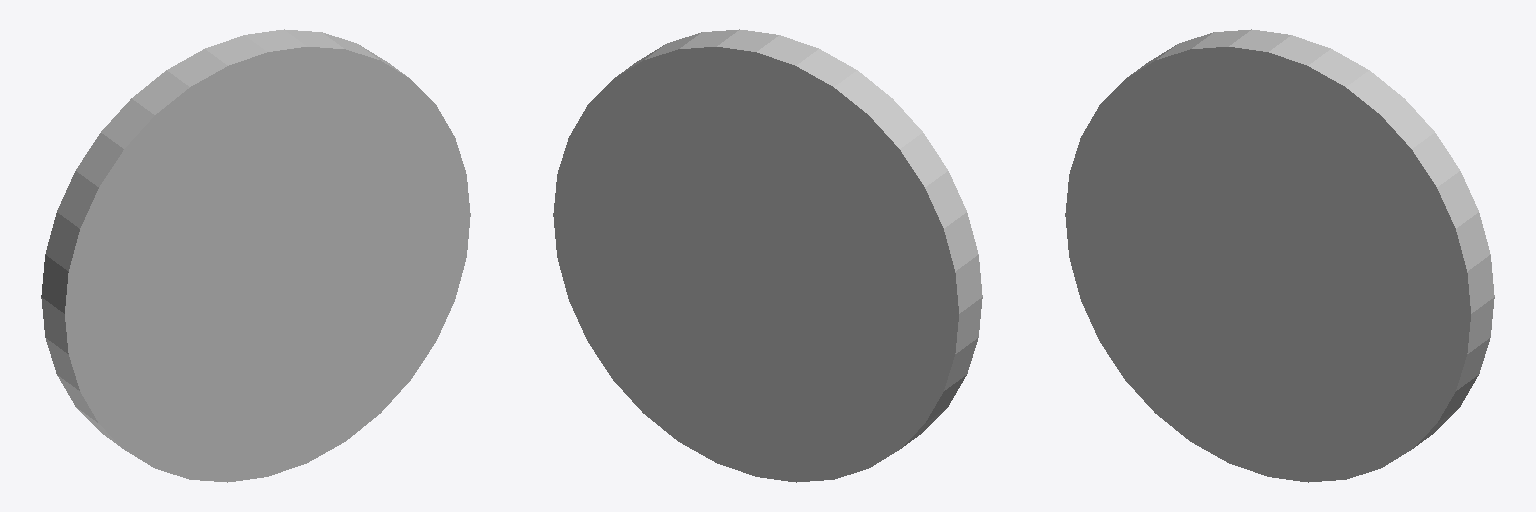
The model's file is coin.obj.
The picture shows the model from 3 angles: view 1: azimuth 30°, elevation 25°; view 2: azimuth 150°, elevation 25°; view 3: azimuth 330°, elevation 25°; orthographic projection.
Parts seen in each view (by area): view 1: Cylinder; view 2: Cylinder; view 3: Cylinder.
Part boxes in pixels (x1,y1,x2,y2): Cylinder: (41,29,470,482); Cylinder: (553,29,982,482); Cylinder: (1065,29,1494,482).
Size of the model in its own units: 1 by 1 by 0.1.